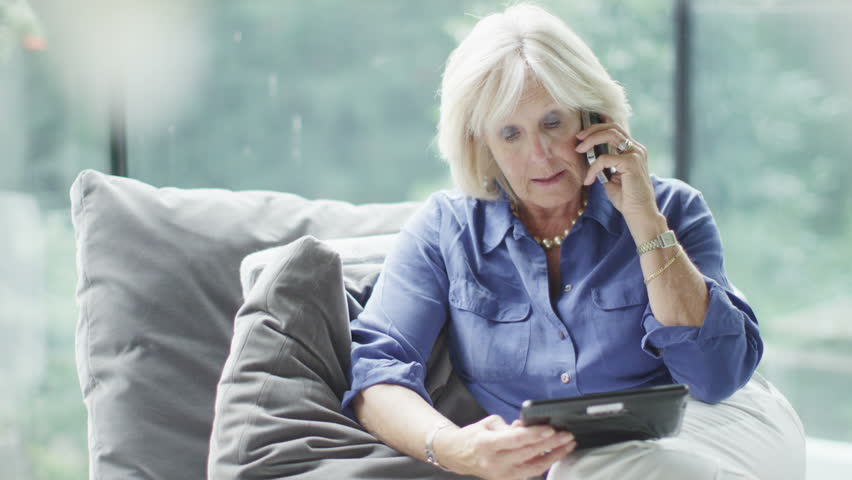phone: (569, 105, 651, 194)
talk: (494, 95, 659, 217)
